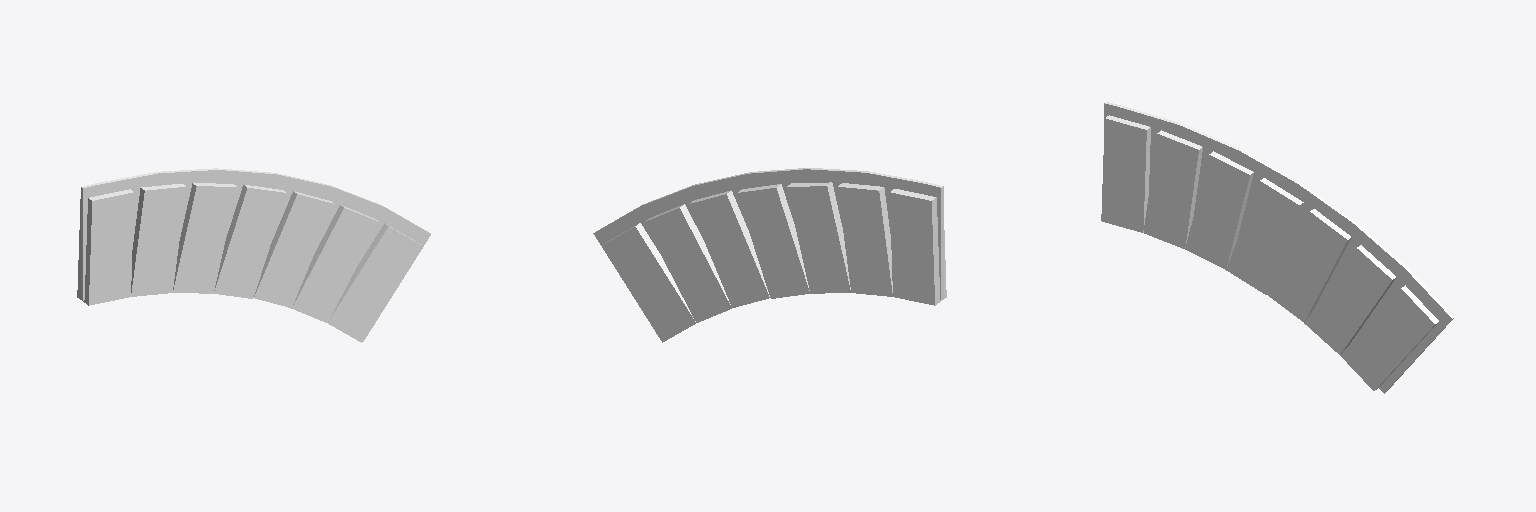
Rendered from lime_mortar_orange_clay_brick_facade_segmental_arch_2_right_bottom.obj.
The picture shows the model from 3 angles: view 1: azimuth 30°, elevation 25°; view 2: azimuth 150°, elevation 25°; view 3: azimuth 330°, elevation 25°; orthographic projection.
Visible parts, largest first — view 1: brick.012, brick.006, brick.011, brick.010, brick.008, brick.009, brick.007, cube.116, cube.119, cube.120, cube.118, cube.122 (+2 smaller); view 2: brick.012, brick.011, brick.006, brick.010, brick.008, brick.009, brick.007, cube.119, cube.120, cube.118, cube.122, cube.117 (+2 smaller); view 3: brick.012, brick.011, brick.010, brick.008, brick.006, brick.009, brick.007, cube.116, cube.117, cube.118, cube.119, cube.120 (+1 smaller).
Boxes of the visible parts, box(x1,y1,x2,y2) form: brick.012: box(77, 189, 133, 305); brick.006: box(328, 223, 421, 342); brick.011: box(131, 184, 185, 296); brick.010: box(173, 183, 237, 293); brick.008: box(214, 185, 286, 298); brick.009: box(254, 191, 334, 307); brick.007: box(291, 205, 379, 322); cube.116: box(359, 207, 430, 341); cube.119: box(215, 168, 275, 233); cube.120: box(156, 168, 217, 236); cube.118: box(271, 173, 331, 242); cube.122: box(96, 172, 157, 241); brick.012: box(890, 189, 946, 305); brick.011: box(838, 183, 892, 296); brick.006: box(602, 223, 695, 342); brick.010: box(786, 182, 850, 293); brick.008: box(737, 184, 809, 298); brick.009: box(689, 190, 769, 307); brick.007: box(644, 204, 732, 322); cube.119: box(749, 168, 809, 223); cube.120: box(807, 168, 867, 226); cube.118: box(693, 172, 753, 227); cube.122: box(867, 171, 927, 233); cube.117: box(641, 185, 702, 237); brick.012: box(1101, 115, 1150, 232); brick.011: box(1144, 130, 1202, 248); brick.010: box(1185, 151, 1253, 269); brick.008: box(1226, 178, 1303, 294); brick.006: box(1340, 285, 1438, 390); brick.009: box(1266, 209, 1351, 322); brick.007: box(1304, 245, 1395, 354); cube.116: box(1354, 267, 1454, 393); cube.117: box(1314, 221, 1406, 343); cube.118: box(1277, 182, 1353, 272); cube.119: box(1235, 149, 1298, 239); cube.120: box(1178, 123, 1240, 212).
Bounding box in the file's own units: 1.29 × 0.7873 × 0.0741.